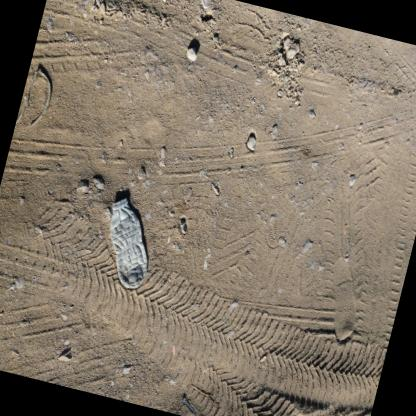Paper: (172, 345, 174, 356)
Plastic: (109, 198, 146, 288), (14, 69, 50, 127), (181, 398, 195, 413)
